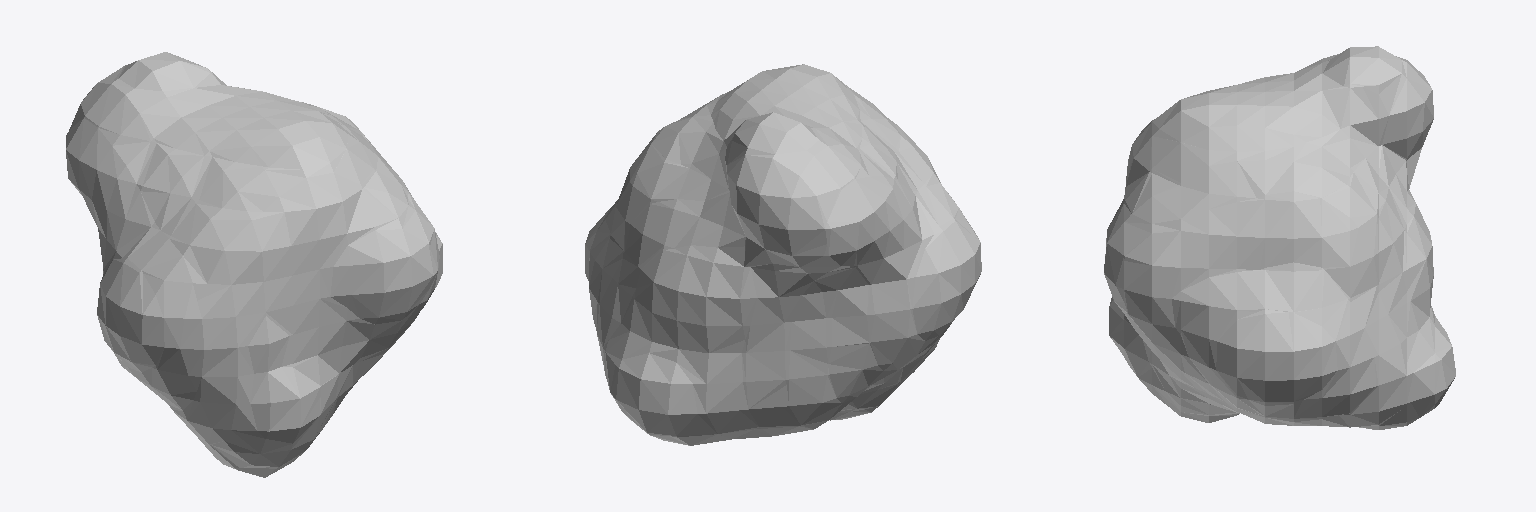
The model's file is 1tm9_cms.obj.
3 views of the same model, side by side, from view 1: azimuth 30°, elevation 25°; view 2: azimuth 150°, elevation 25°; view 3: azimuth 270°, elevation 25° (orthographic).
Bounding box in the file's own units: 53.38 × 53.26 × 47.46.